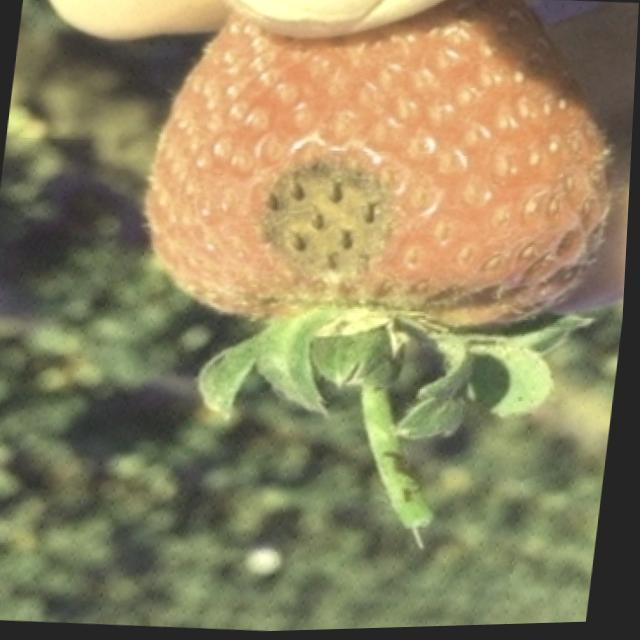Anthracnose Fruit Rot: (262, 146, 393, 288)
